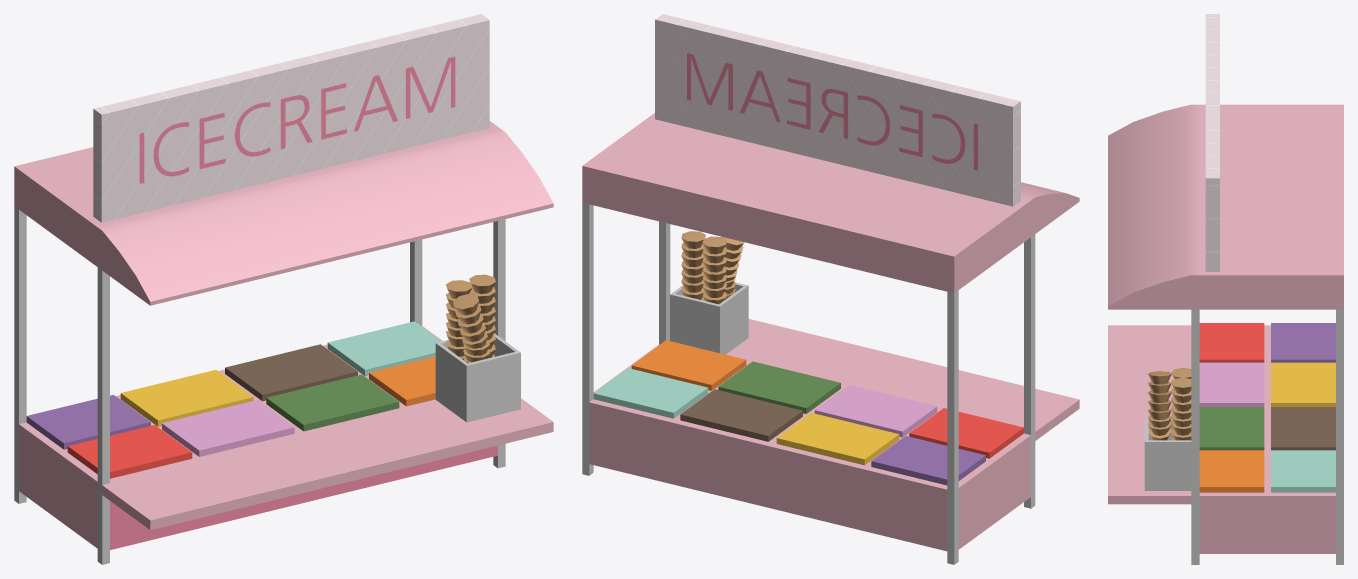
The model's file is fbx_icecreamShop.fbx.
3 renders of one model, left to right at view 1: azimuth 30°, elevation 25°; view 2: azimuth 150°, elevation 25°; view 3: azimuth 270°, elevation 25°, orthographic. The views are drawn at different scales.
Visible parts, largest first — view 1: icecreamShop_geo; view 2: icecreamShop_geo; view 3: icecreamShop_geo.
Part boxes in pixels (x1,y1,x2,y2): icecreamShop_geo: (14,14,553,564); icecreamShop_geo: (582,14,1079,564); icecreamShop_geo: (1108,14,1343,564).
Bounding box in the file's own units: 2.56 × 2.68 × 1.49.
Materials: 1 (1 with a texture image).
